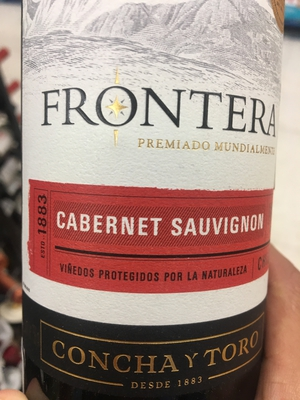frontera cabernet sauvignon: (22, 1, 279, 394)
